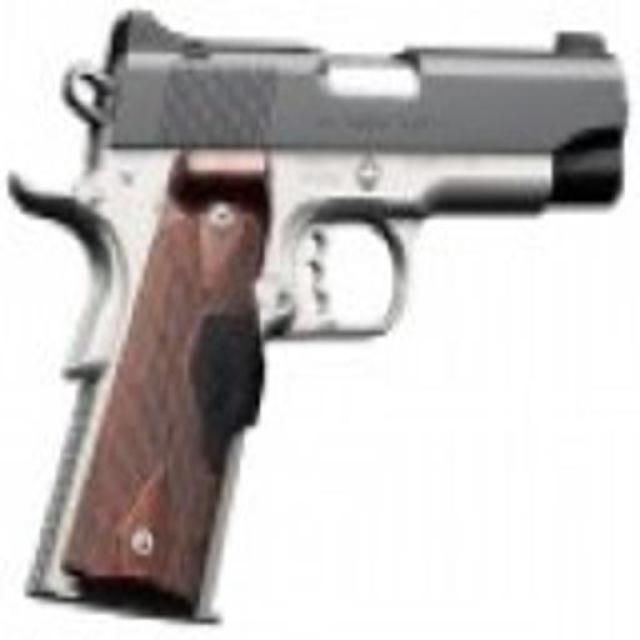pistol: (8, 10, 624, 617)
